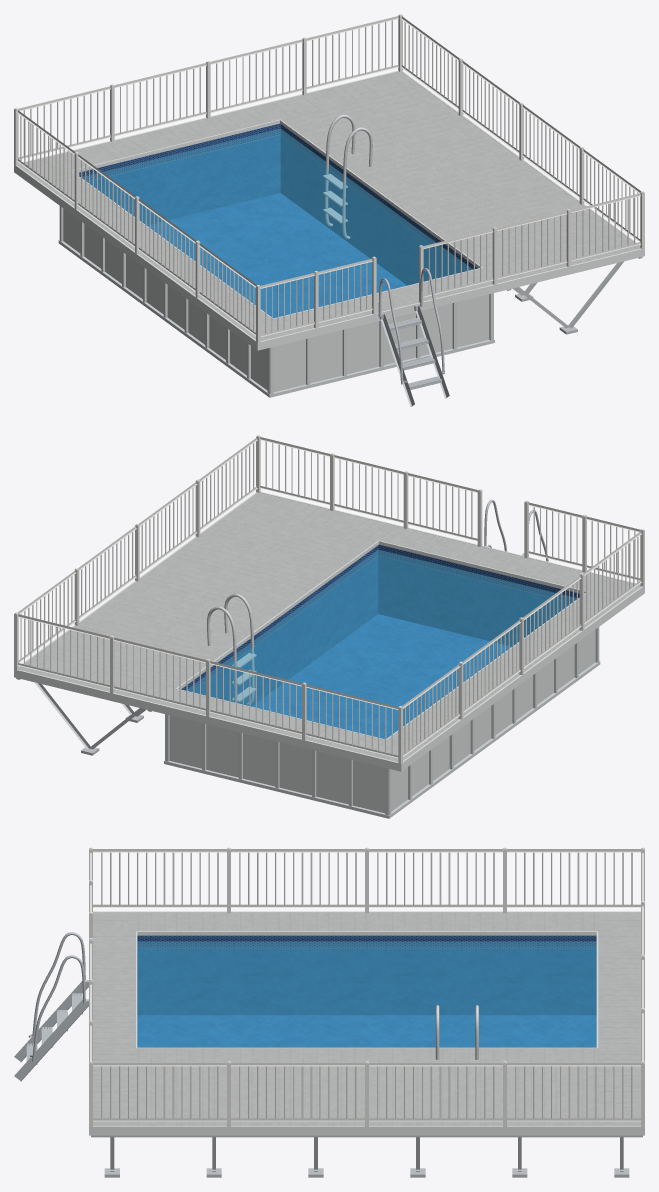
The model's file is kayak-pool-12x20-white-side-ag-fence.754b88d3eb.glb.
3 views of the same model, one above another, from view 1: azimuth 30°, elevation 25°; view 2: azimuth 150°, elevation 25°; view 3: azimuth 270°, elevation 25° (orthographic). The views are drawn at different scales.
Visible parts, largest first — view 1: deck, water, fence, liner_wall, liner_floor, wall, fascia, upright, ladder, steel, stud; view 2: deck, water, fence, liner_wall, liner_floor, wall, fascia, upright, steel, stud; view 3: deck, water, liner_wall, fence, liner_floor, fascia, stud, ladder, steel.
Part boxes in pixels (x1,y1,x2,y2): deck: (18,71,640,340); water: (82,128,472,318); fence: (14,14,644,342); liner_wall: (79,123,477,285); liner_floor: (147,193,406,318); wall: (63,208,489,392); fascia: (14,70,644,350); upright: (58,206,494,397); ladder: (378,268,449,406); steel: (323,114,372,239); stud: (507,257,642,334); deck: (18,492,640,761); water: (187,549,576,738); fence: (14,435,644,763); liner_wall: (181,544,579,706); liner_floor: (252,614,511,738); wall: (169,629,595,813); fascia: (14,491,644,771); upright: (164,627,600,818); steel: (207,593,256,705); stud: (16,678,151,755); deck: (93,912,640,1125); water: (137,941,596,1047); liner_wall: (137,935,596,1015); fence: (89,847,644,1126); liner_floor: (137,1015,596,1047); fascia: (89,911,644,1135); stud: (91,1135,642,1177); ladder: (14,932,88,1081); steel: (435,1005,478,1059).
Size of the model in its own units: 6.71 by 2.15 by 8.3.
11 materials, 3 textured.
